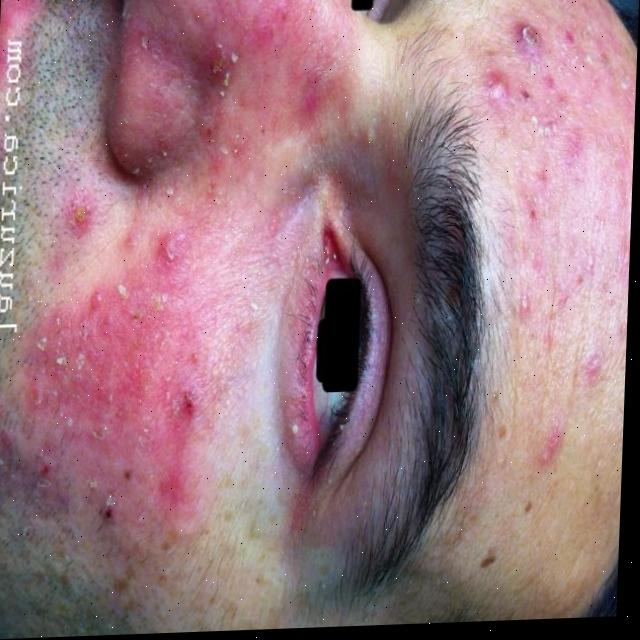Rosacea: (0, 206, 240, 577), (466, 13, 638, 472), (109, 0, 364, 214)
